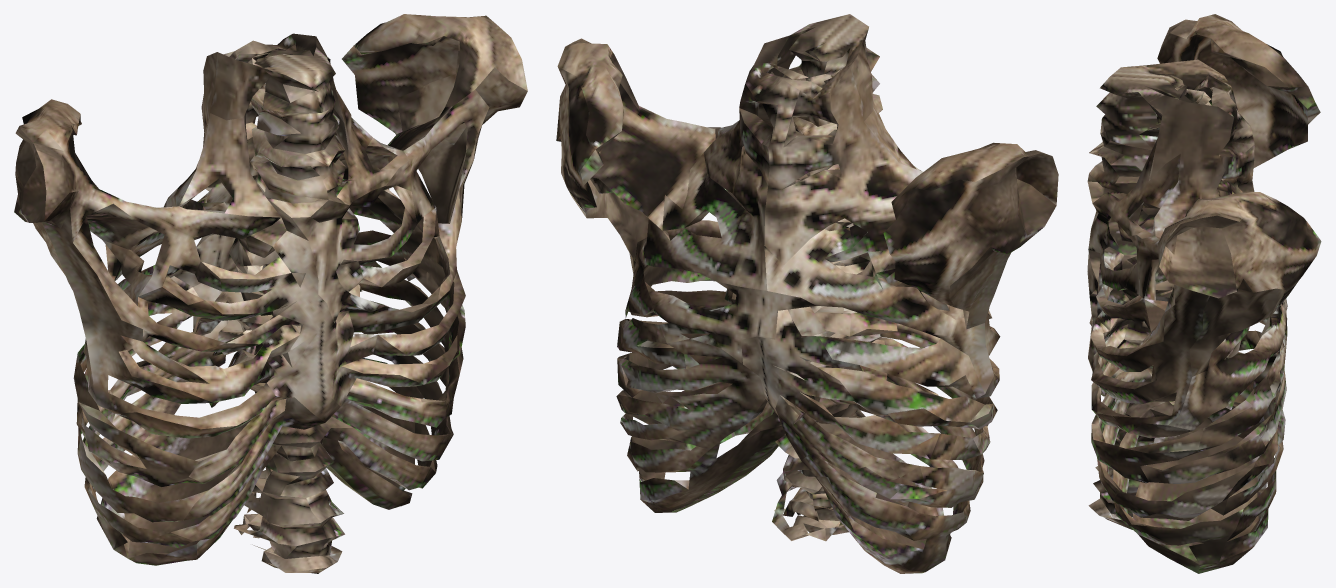
File: ribcage.glb
3 views of the same model, side by side, from view 1: azimuth 30°, elevation 25°; view 2: azimuth 150°, elevation 25°; view 3: azimuth 270°, elevation 25° (orthographic). The views are drawn at different scales.
Parts seen in each view (by area): view 1: geometry_0; view 2: geometry_0; view 3: geometry_0.
Boxes of the visible parts, bbox=[...] form: geometry_0: bbox=[14, 14, 527, 573]; geometry_0: bbox=[556, 14, 1058, 573]; geometry_0: bbox=[1087, 14, 1321, 573].
Size of the model in its own units: 0.4498 by 0.45 by 0.2144.
Materials: 1 (1 with a texture image).
